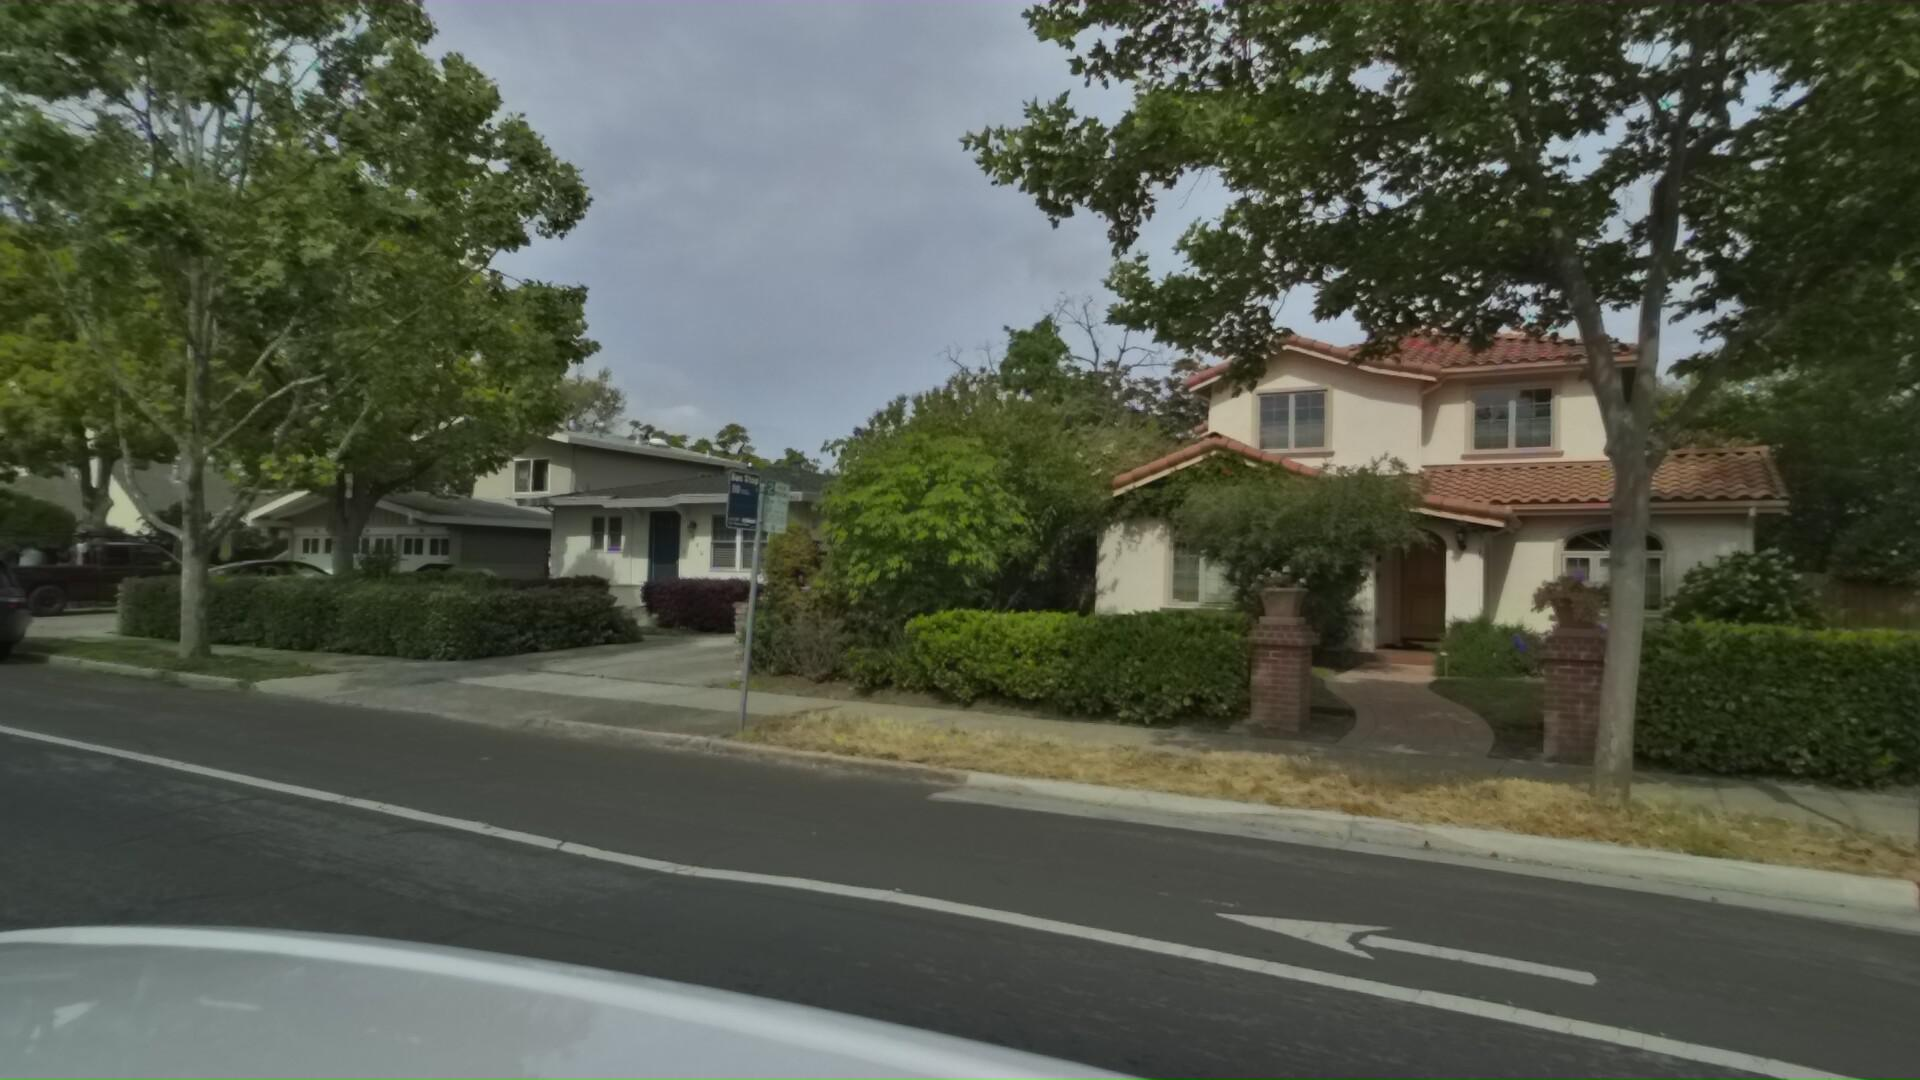car: (0, 521, 243, 626), (146, 560, 381, 632), (0, 554, 61, 683)
